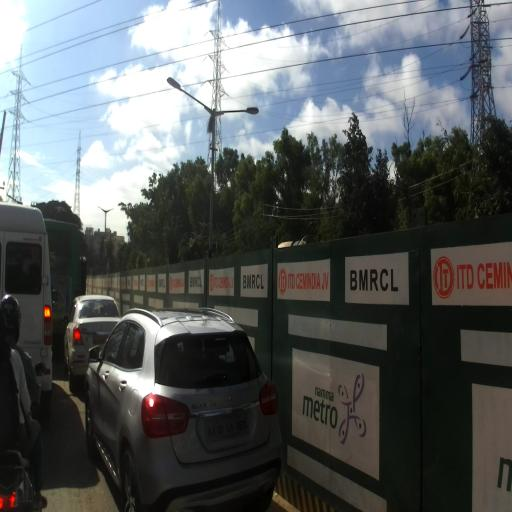street_light_0: (166, 75, 217, 122), (210, 106, 260, 120), (98, 206, 106, 214), (105, 208, 114, 214)
